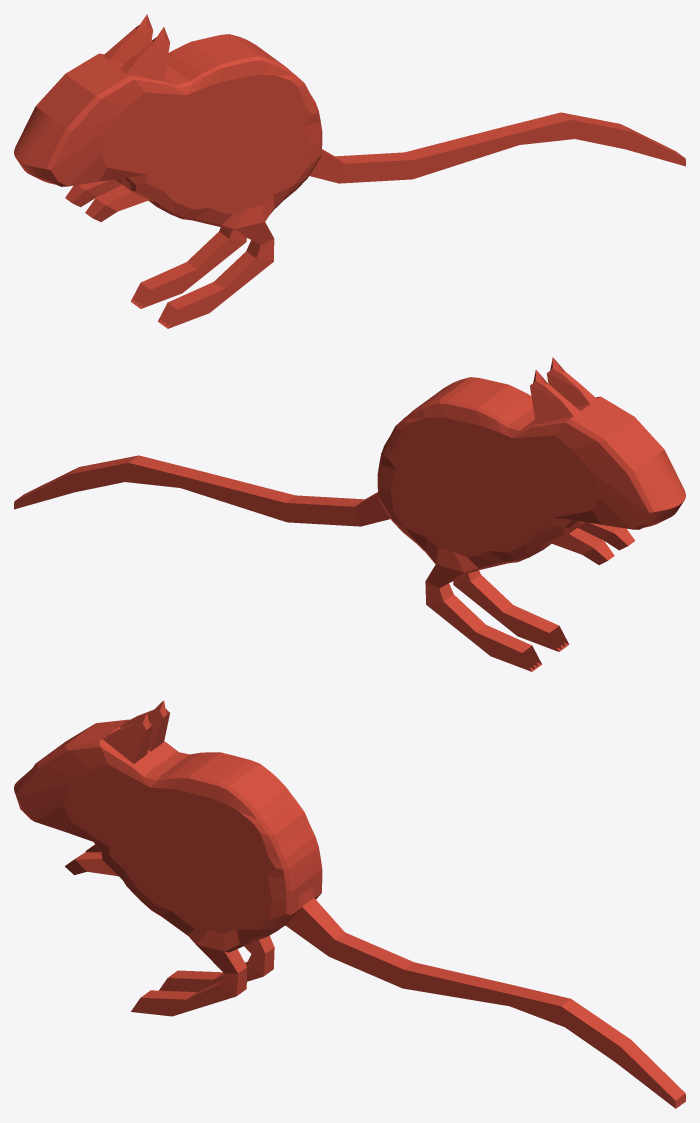
Rendered from Mouseee.fbx.
3 views of the same model, one above another, from view 1: azimuth 30°, elevation 25°; view 2: azimuth 150°, elevation 25°; view 3: azimuth 330°, elevation 25° (orthographic).
Parts seen in each view (by area): view 1: Cube; view 2: Cube; view 3: Cube.
Part boxes in pixels (left/top/right/bottom): Cube: left=14, top=14, right=685, bottom=328; Cube: left=14, top=357, right=685, bottom=671; Cube: left=14, top=700, right=685, bottom=1108.
Bounding box in the file's own units: 454 × 193 × 48.57.
